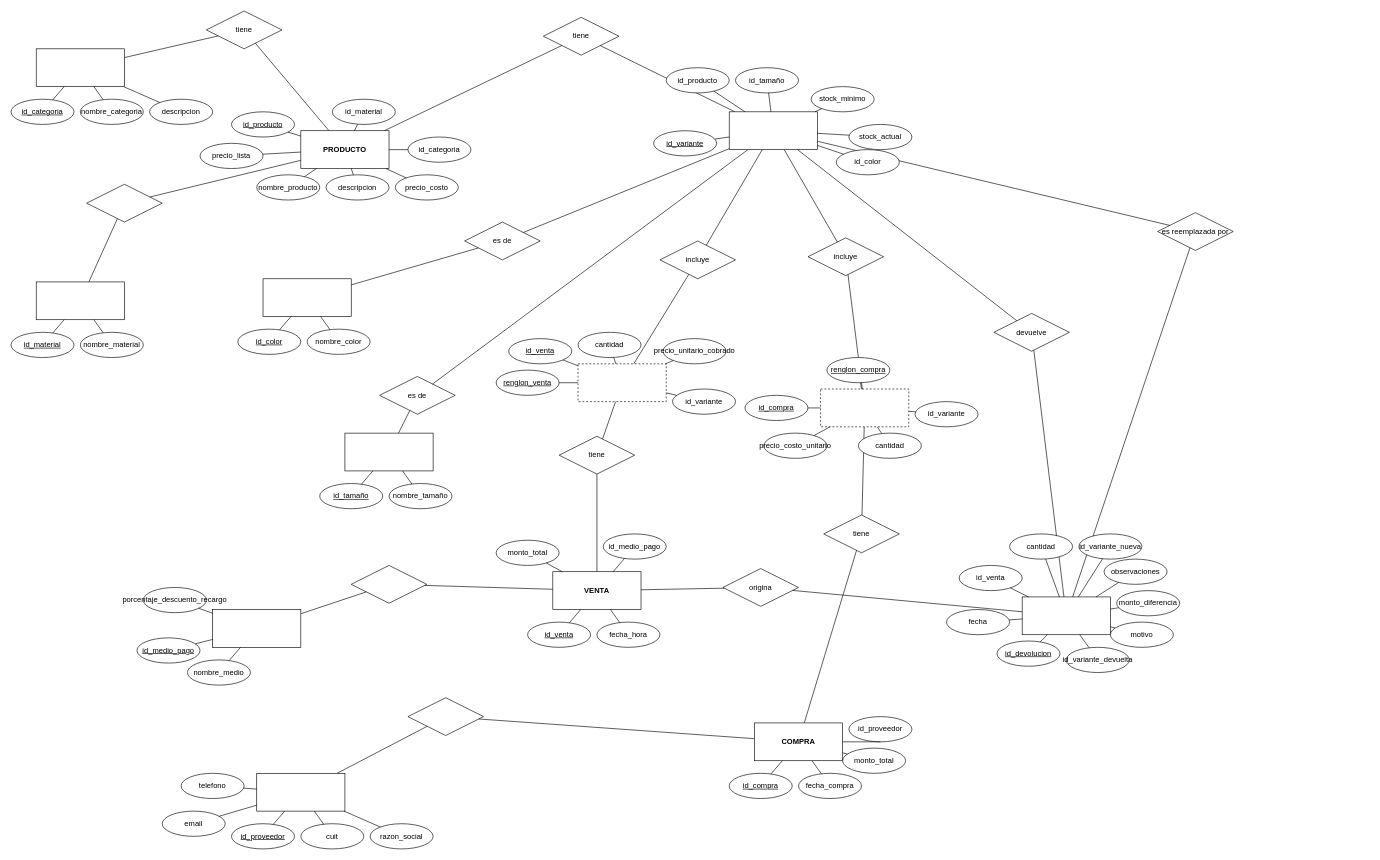
Image size: 1380x860. Some labels were removed from this diagram. Each missing label, with the centre of its shape:
"CATEGORIA" goes at point (80, 67).
"COLOR" goes at point (306, 297).
"DETALLE_COMPRA" goes at point (864, 407).
"DETALLE_VENTA" goes at point (621, 382).
"DEVOLUCION" goes at point (1066, 615).
"MATERIAL" goes at point (80, 300).
"MEDIO_PAGO" goes at point (256, 628).
"paga con" goes at point (389, 584).
"PROVEEDOR" goes at point (300, 792).
"recibe" goes at point (445, 716).
"TAMAÑO" goes at point (388, 451).
"usa" goes at point (124, 203).
"VARIANTE_PRODUCTO" goes at point (773, 130).
